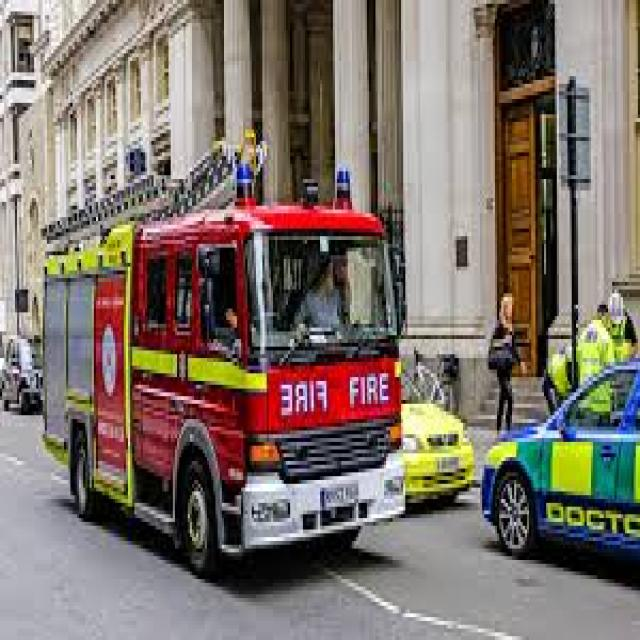Fire_brigade: (19, 172, 420, 586)
